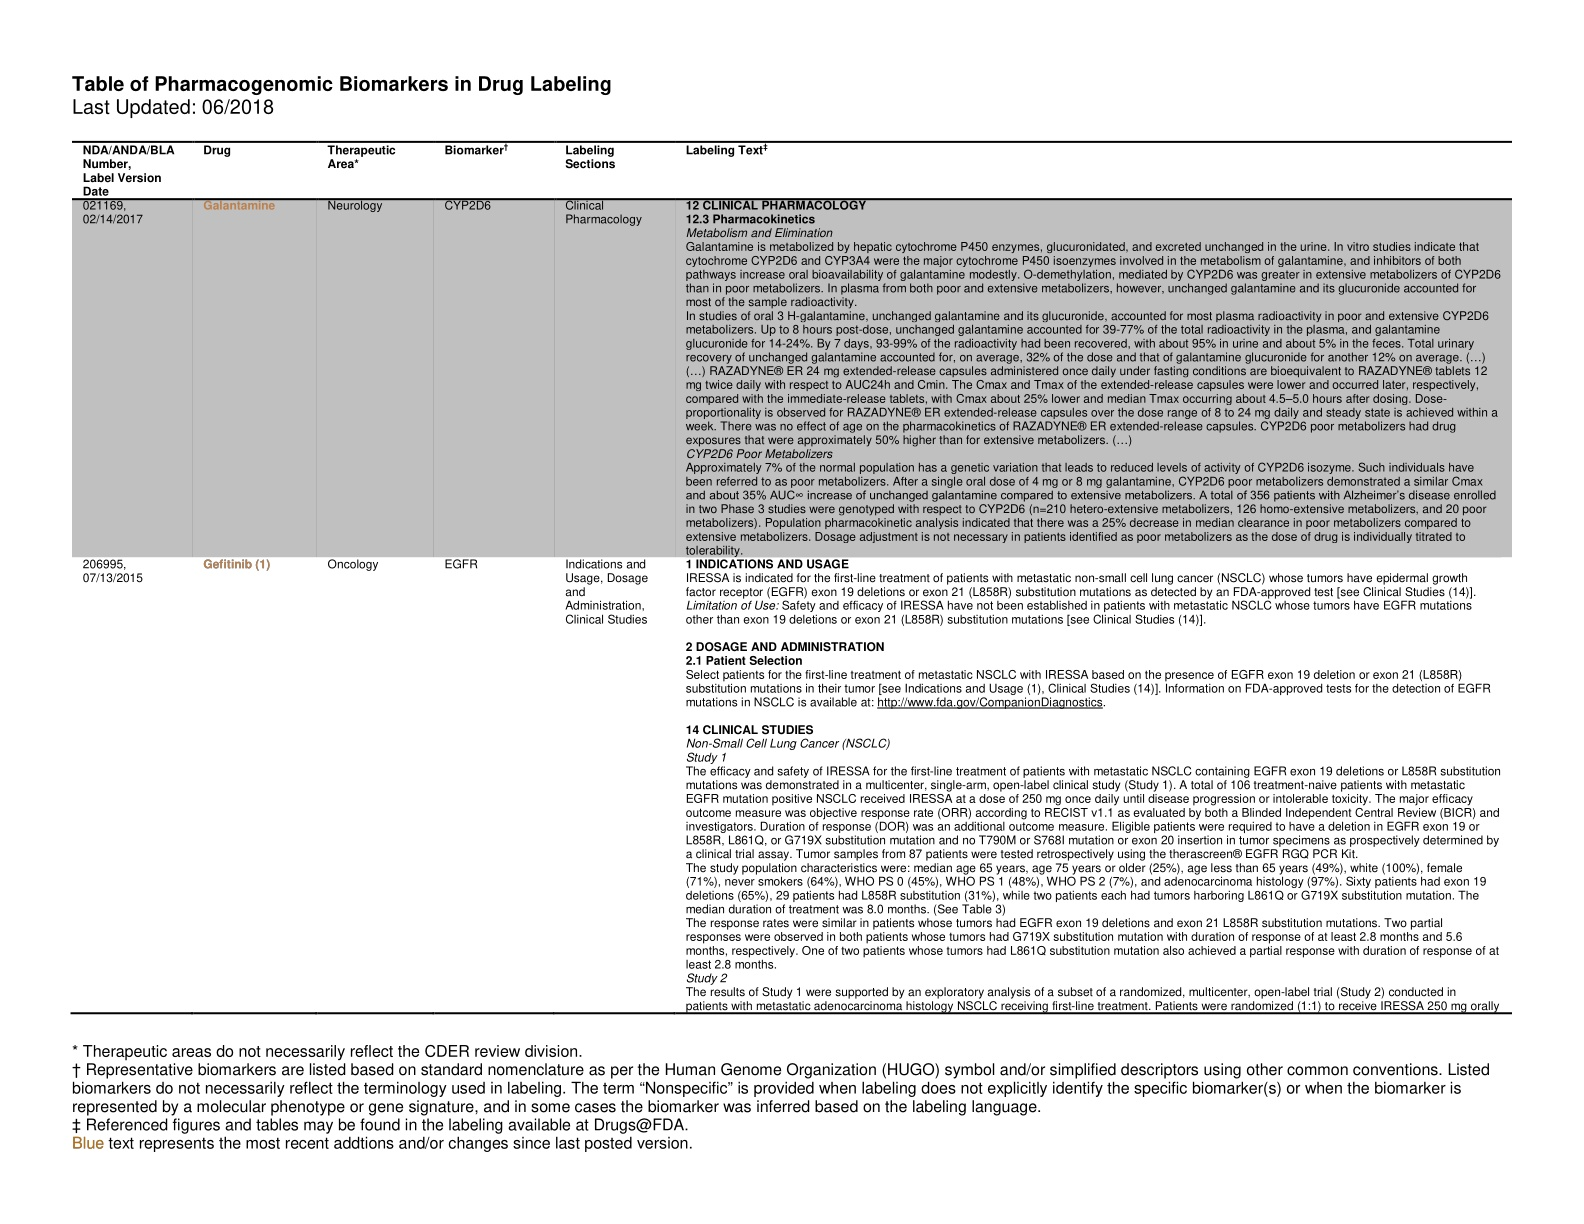partial_lined_merged_cells: (69, 138, 1513, 1016)
